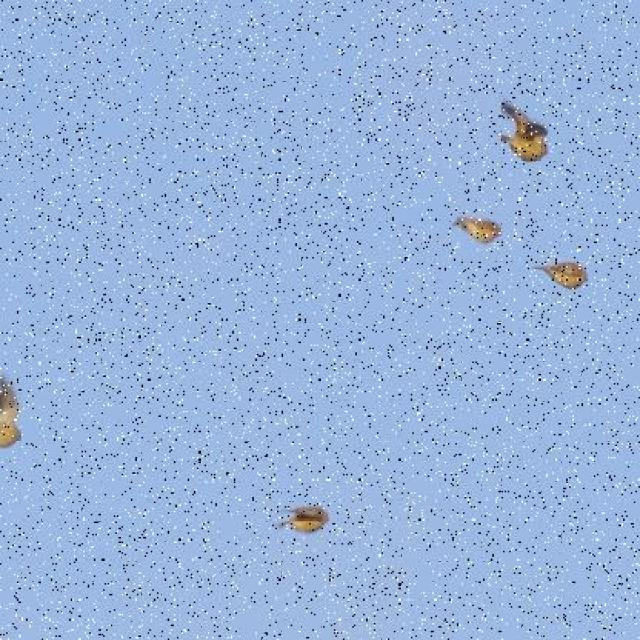bird: (502, 98, 566, 180), (1, 334, 36, 468), (535, 232, 587, 313), (272, 488, 334, 544), (452, 219, 508, 263)
